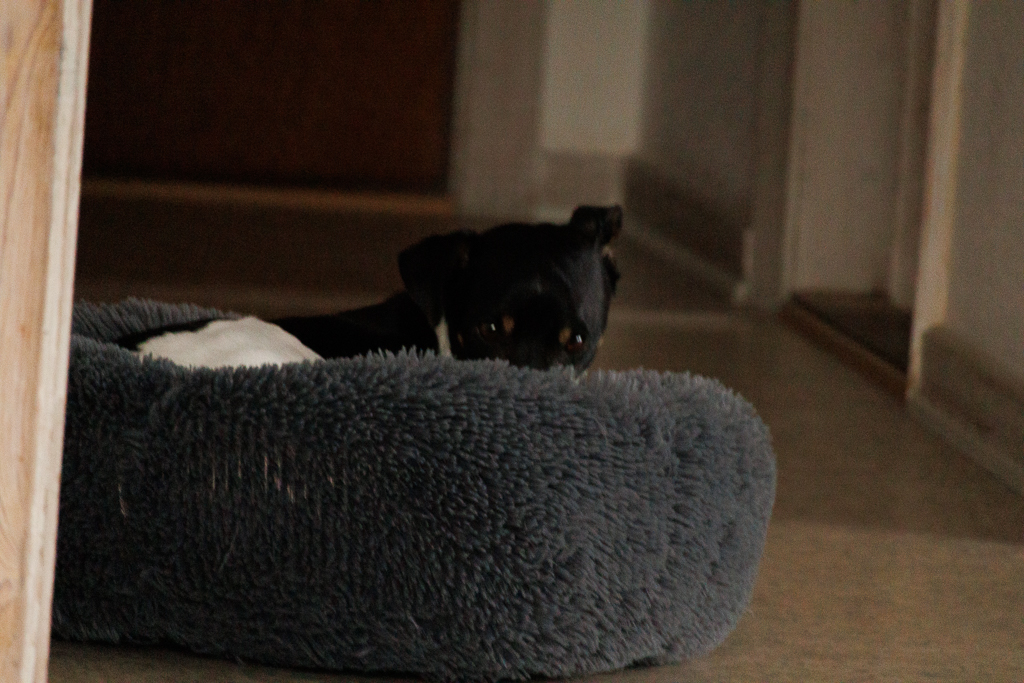Dog: (88, 186, 634, 382)
